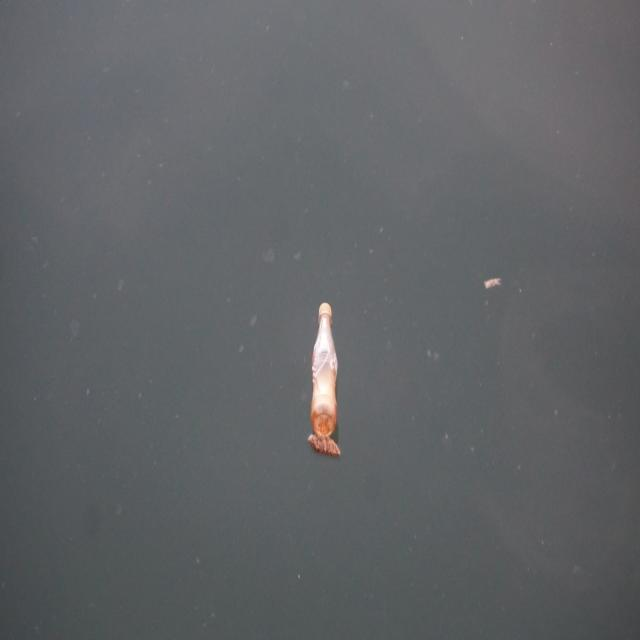Botol Plastik: (310, 292, 343, 448)
